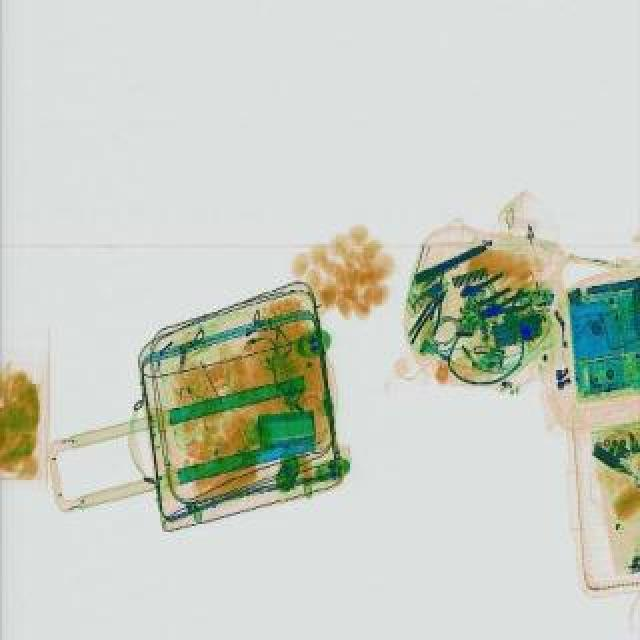scissors: (456, 266, 508, 302)
wrench: (408, 282, 450, 352), (474, 288, 536, 328)
